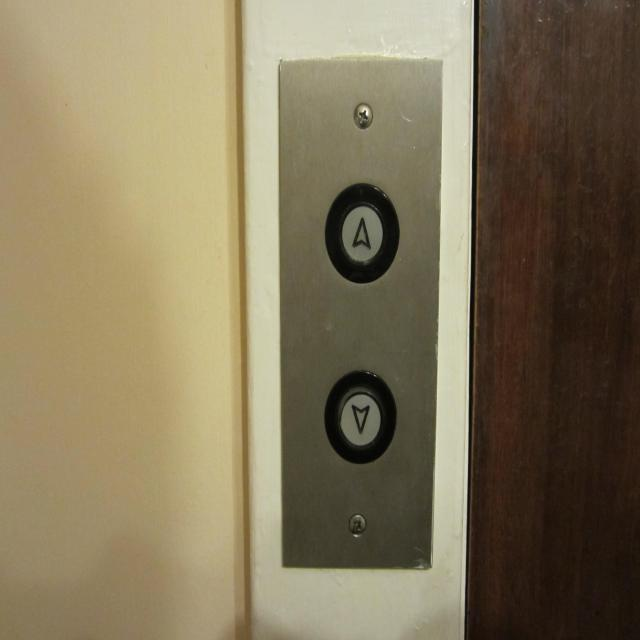down: (321, 367, 398, 468)
up: (321, 177, 401, 288)
